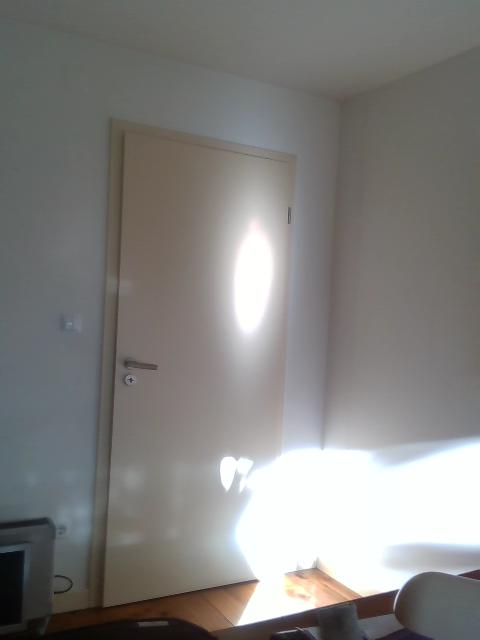door: (104, 129, 296, 611)
